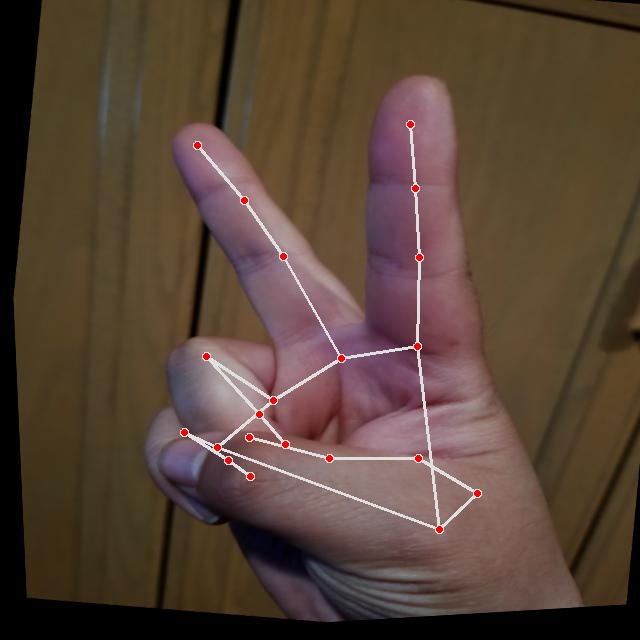V: (93, 26, 639, 635)
